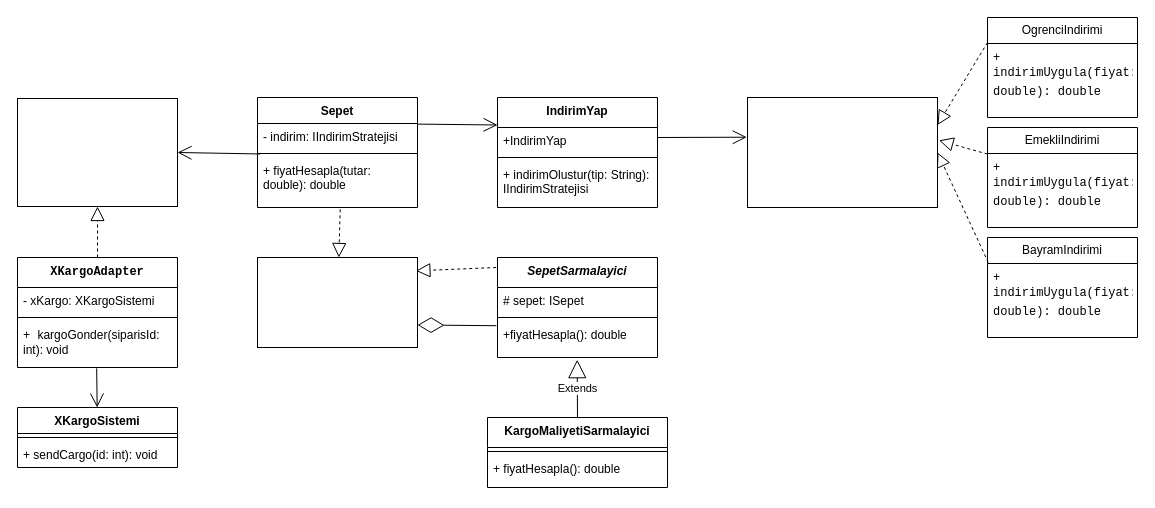
Image size: 1155x508. Some labels were removed from this diagram. The shapes that lost their labels are listed below. From the top down, each one's centre as x and y in pixels, then its label:
At point 97,152: "<<Interface>> IKargoServisi + kargoGonder(siparisId: int): void".
At point 842,152: "<<Interface>> IindirimStratejisi + indirimUygula(fiyat: double): double".
At point 337,302: "<<Interface>> ISepet + fiyatHesapla(): double".
